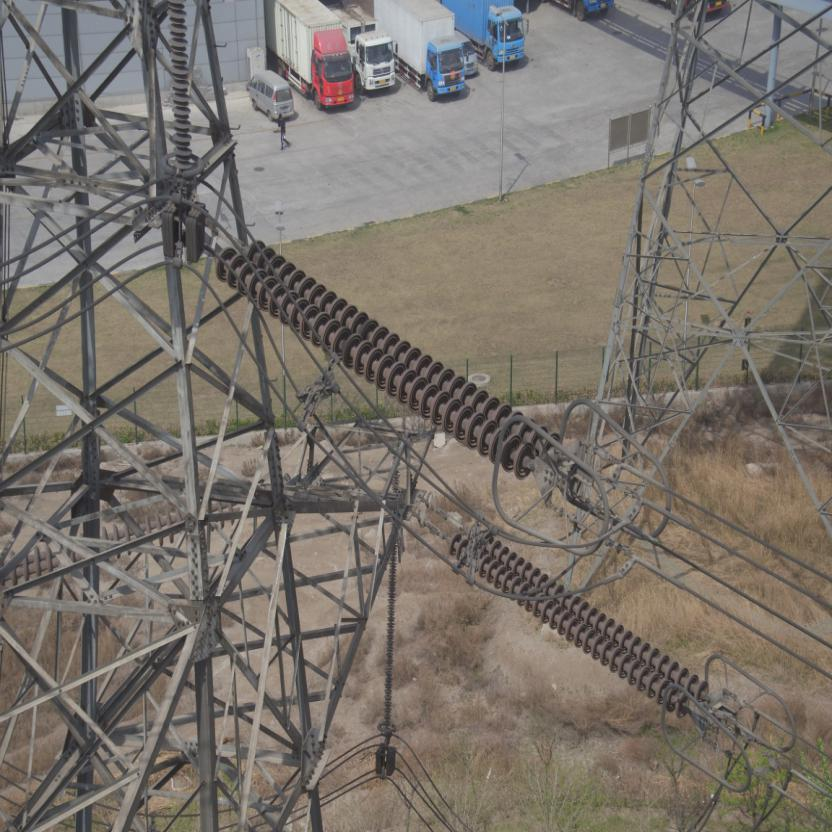insulator: (207, 228, 574, 488), (426, 510, 722, 720)
